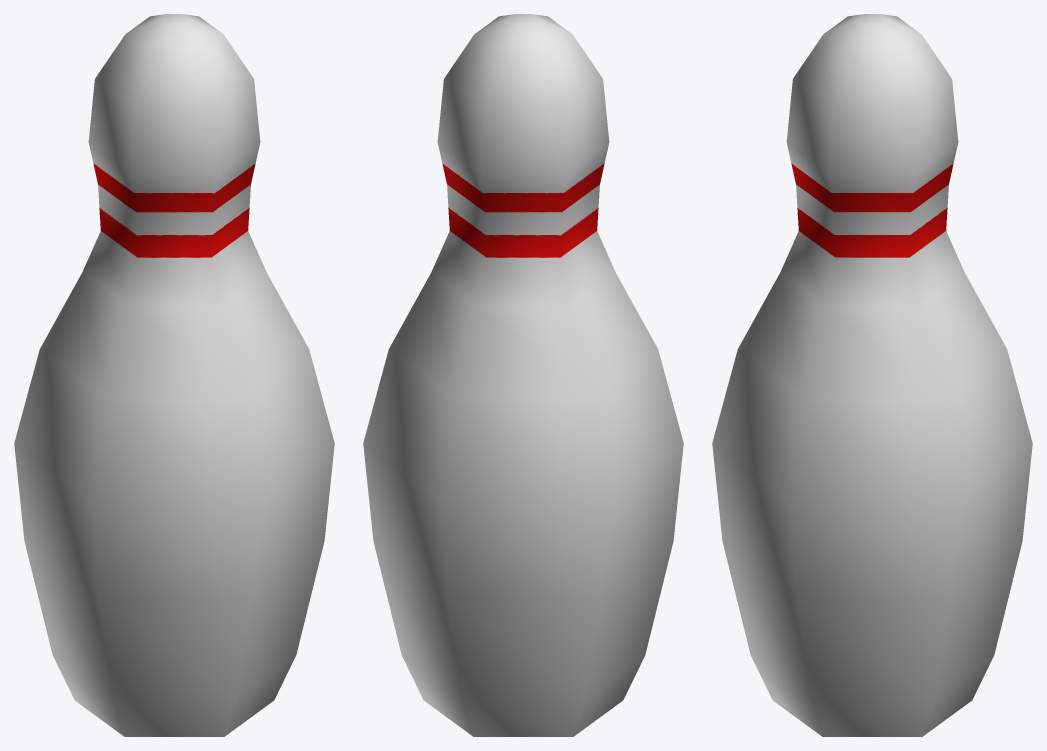
Rendered from pin.glb.
3 views of the same model, side by side, from view 1: azimuth 30°, elevation 25°; view 2: azimuth 150°, elevation 25°; view 3: azimuth 270°, elevation 25° (orthographic).
Visible parts, largest first — view 1: BowlingPin.010_pin_0; view 2: BowlingPin.010_pin_0; view 3: BowlingPin.010_pin_0.
Boxes of the visible parts, x1,y1,x2,y2 form: BowlingPin.010_pin_0: [14, 14, 334, 736]; BowlingPin.010_pin_0: [363, 14, 683, 736]; BowlingPin.010_pin_0: [712, 14, 1032, 736].
Bounding box in the file's own units: 0.3618 × 0.9786 × 0.4178.
1 material, 1 textured.
